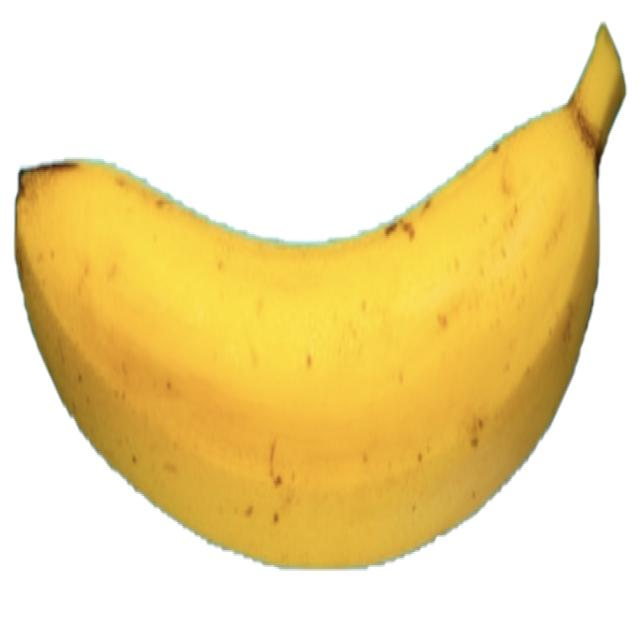fresh-banana: (14, 21, 626, 570)
